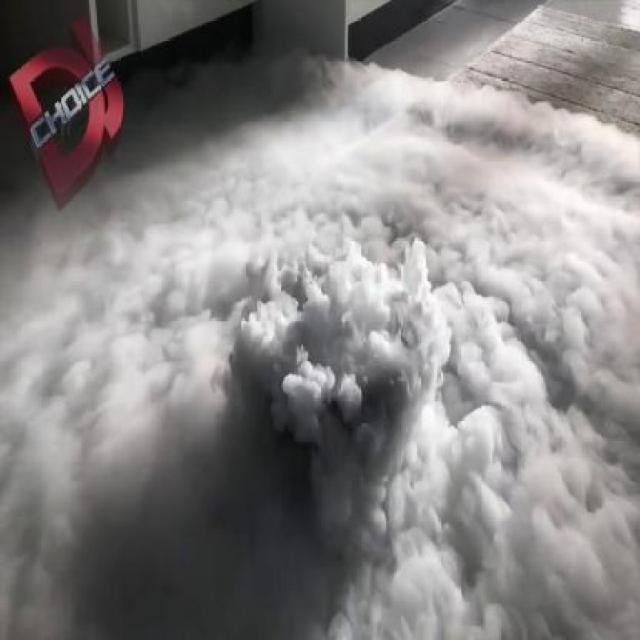smoke: (175, 67, 639, 640), (6, 167, 437, 640)
